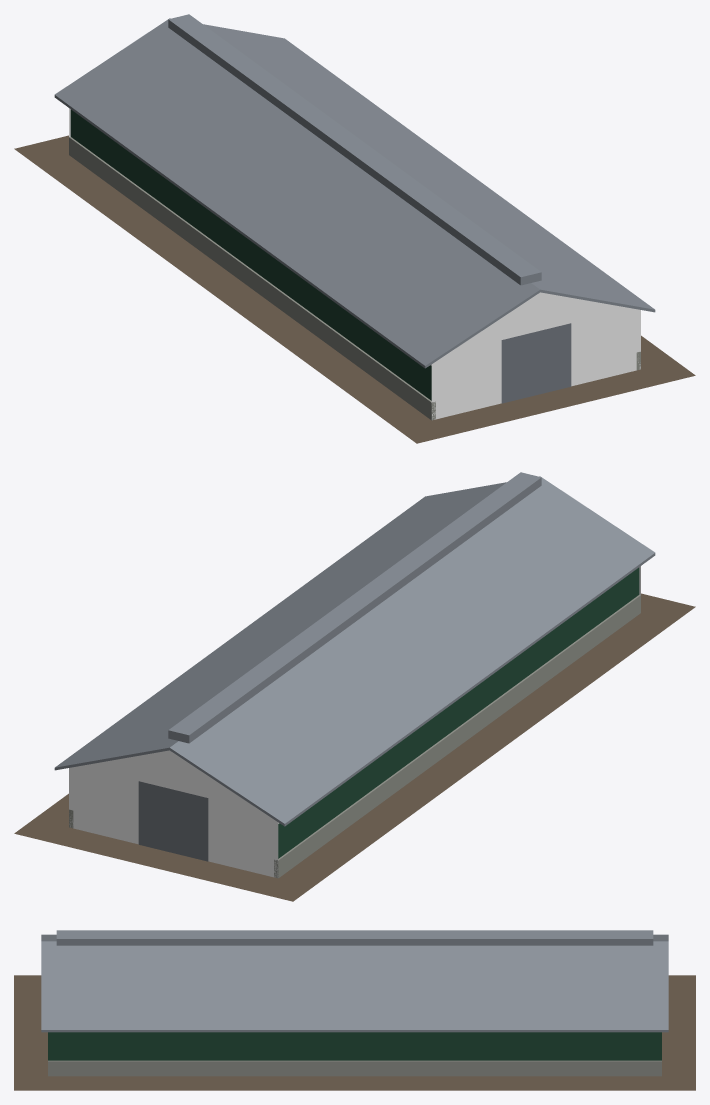
Rendered from tile.fbx.
3 renders of one model, top to bottom at view 1: azimuth 30°, elevation 25°; view 2: azimuth 150°, elevation 25°; view 3: azimuth 270°, elevation 25°, orthographic. The views are drawn at different scales.
Parts seen in each view (by area): view 1: a1003/500/tile; view 2: a1003/500/tile; view 3: a1003/500/tile.
Boxes of the visible parts, x1,y1,x2,y2 form: a1003/500/tile: (14,14,695,443); a1003/500/tile: (14,472,695,901); a1003/500/tile: (14,930,695,1090).
Bounding box in the file's own units: 16 × 6.4 × 40.
